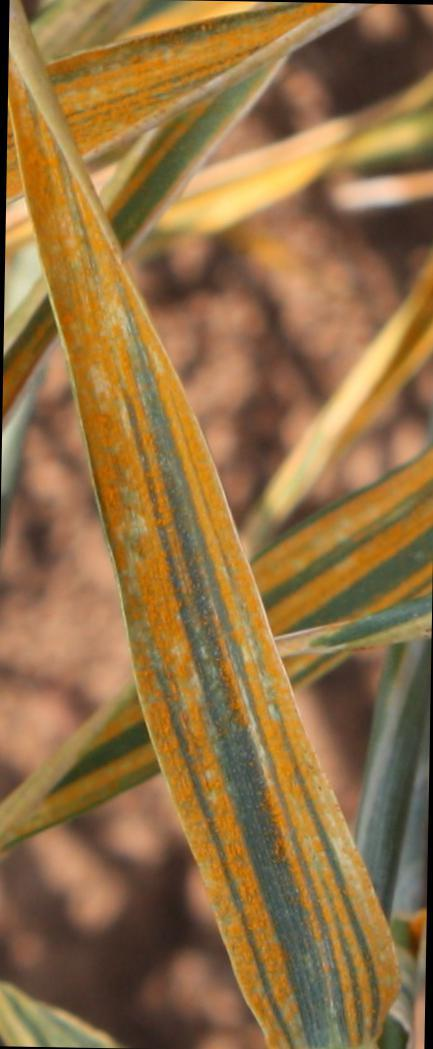Wheat: (251, 872, 384, 1032), (152, 600, 263, 760), (119, 442, 227, 587), (266, 543, 433, 633), (190, 776, 325, 856), (14, 59, 125, 154), (78, 316, 151, 417), (50, 188, 106, 303), (141, 31, 244, 76), (82, 732, 140, 775)
